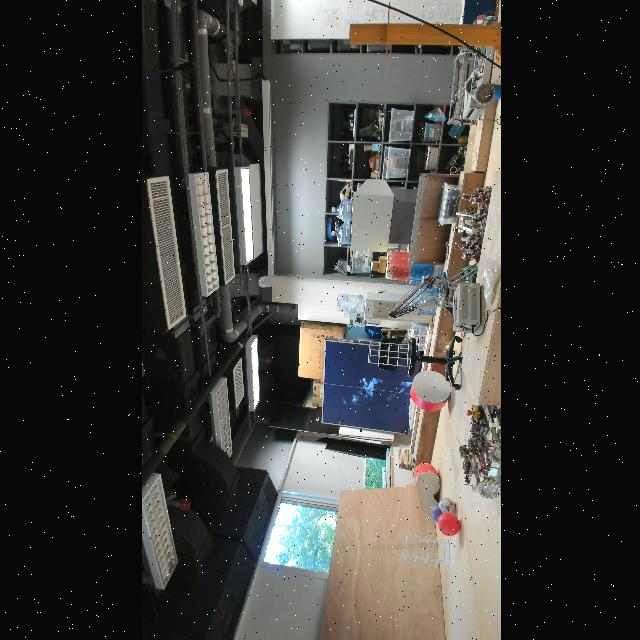P: (430, 502, 450, 526)
R: (436, 512, 460, 536)
S: (400, 532, 450, 568), (366, 340, 409, 368)
